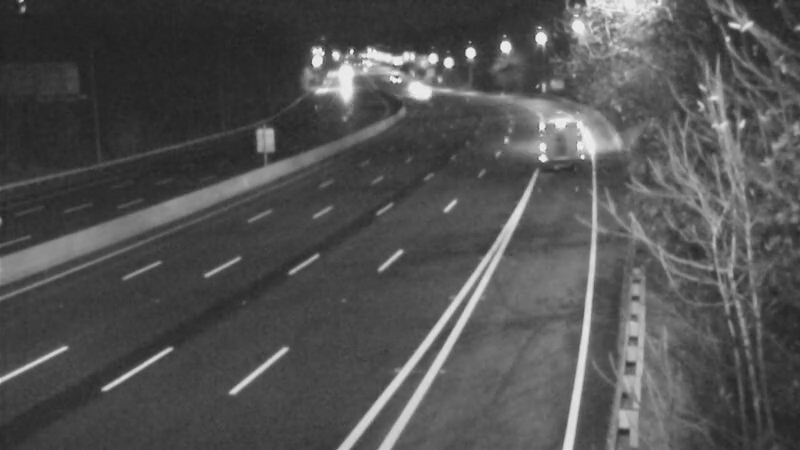vehicle: (388, 62, 438, 112), (396, 70, 446, 120), (531, 98, 581, 148)
